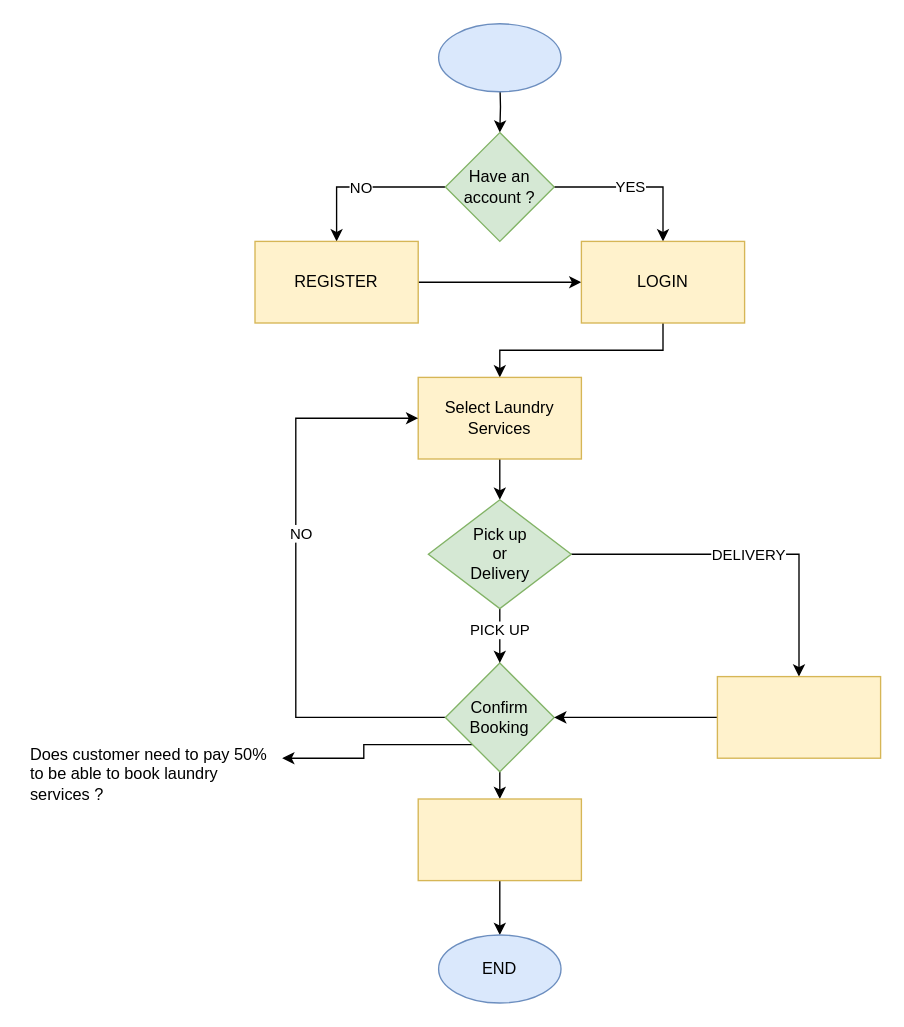
Image size: 904x1027. Some labels were removed from this diagram. The shapes that lost their labels are listed below. From the top down, each one's centre as x and y in pixels, then its label:
At (x=499, y=57): "START".
At (x=798, y=716): "Ask for delivery place".
At (x=499, y=839): "RESERVE".
